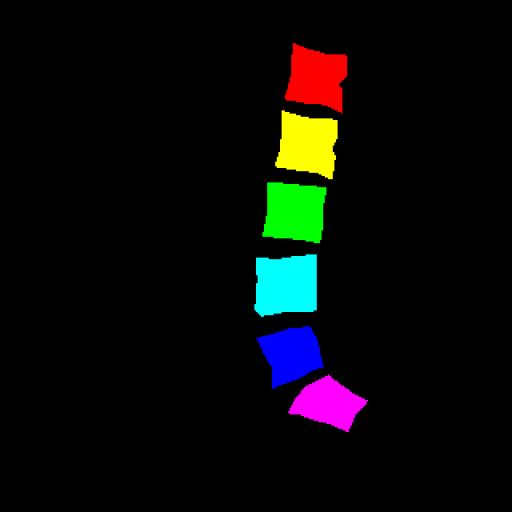L1: (285, 43, 347, 112)
L2: (275, 110, 338, 178)
L3: (263, 182, 326, 242)
L4: (255, 254, 317, 316)
L5: (257, 327, 323, 388)
S1: (290, 375, 367, 432)
